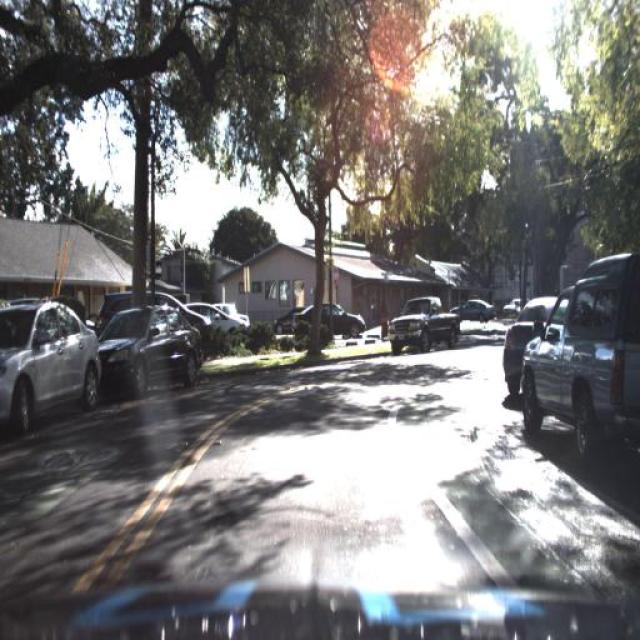car: (516, 243, 639, 454), (0, 298, 105, 452), (94, 304, 202, 388), (386, 292, 456, 356), (494, 288, 531, 408), (292, 302, 367, 343), (189, 303, 247, 347), (444, 282, 495, 331), (268, 299, 306, 345), (208, 310, 244, 358), (448, 296, 496, 322), (274, 304, 308, 332)
